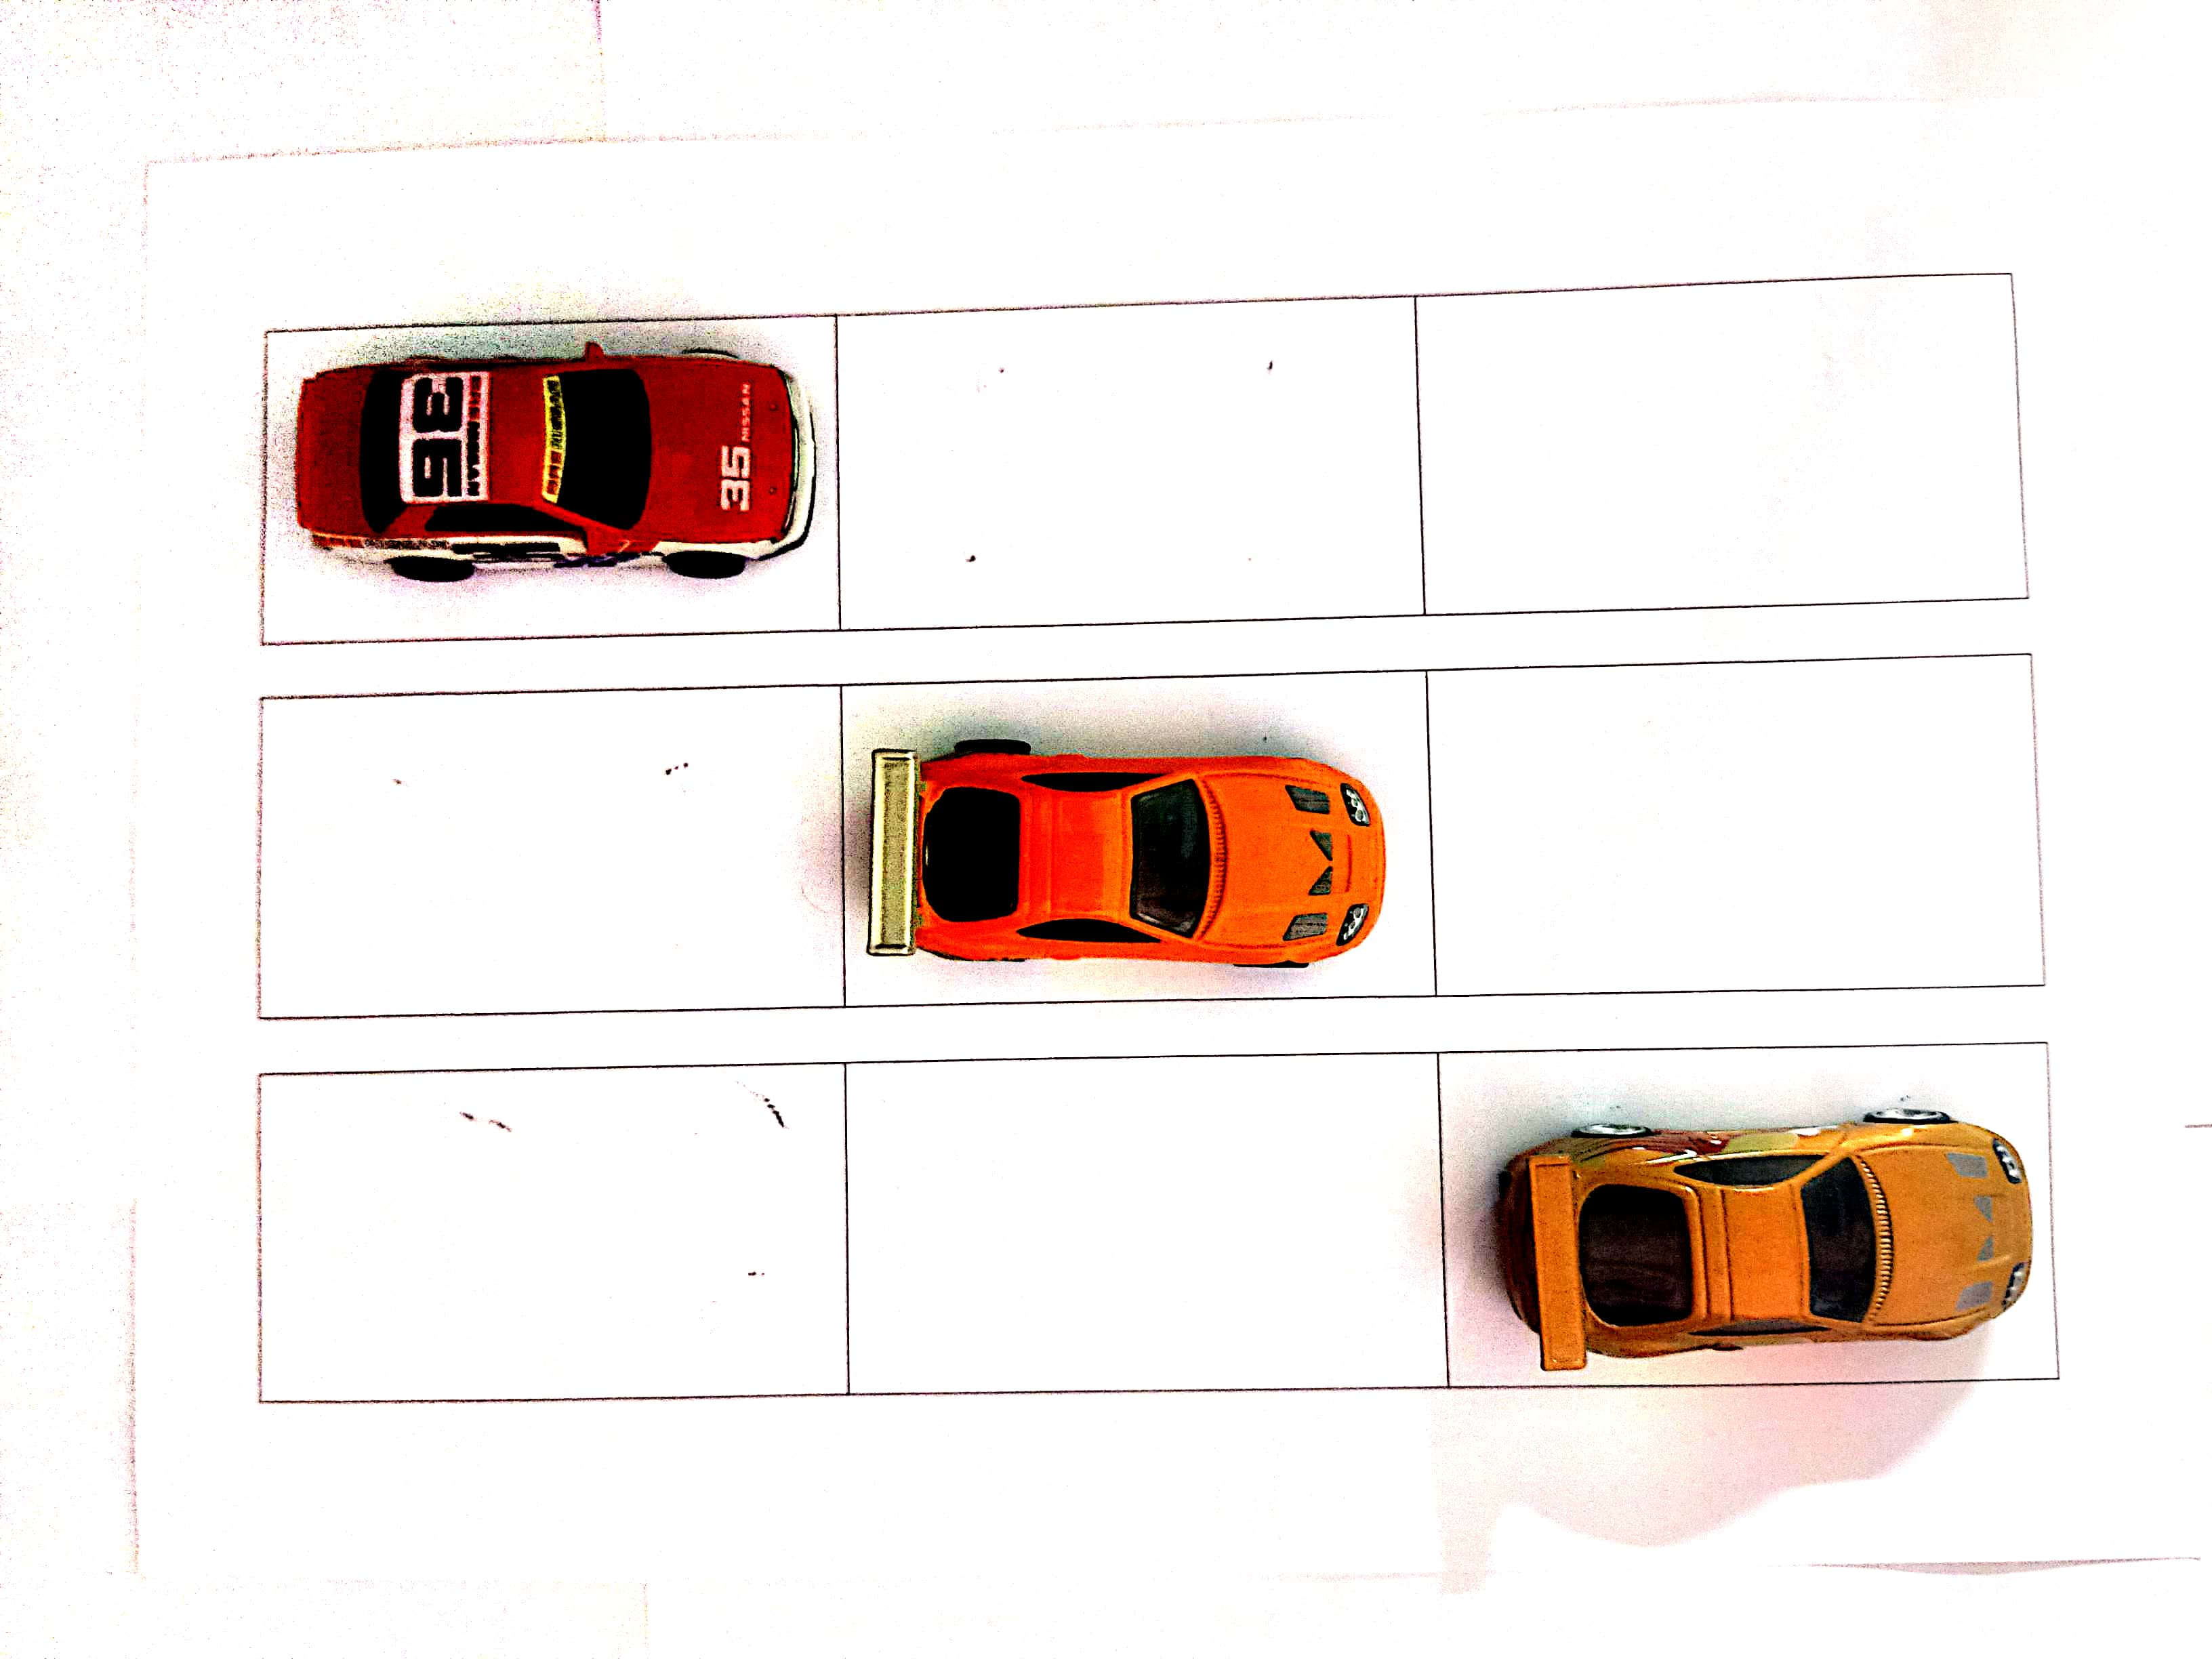Busy: (1446, 1049, 2045, 1380), (845, 674, 1420, 1009), (261, 322, 836, 640)
Free: (1411, 281, 2020, 610), (1432, 666, 2041, 992), (848, 1058, 1437, 1389), (843, 300, 1420, 627), (265, 1066, 836, 1396), (265, 688, 836, 1009)
